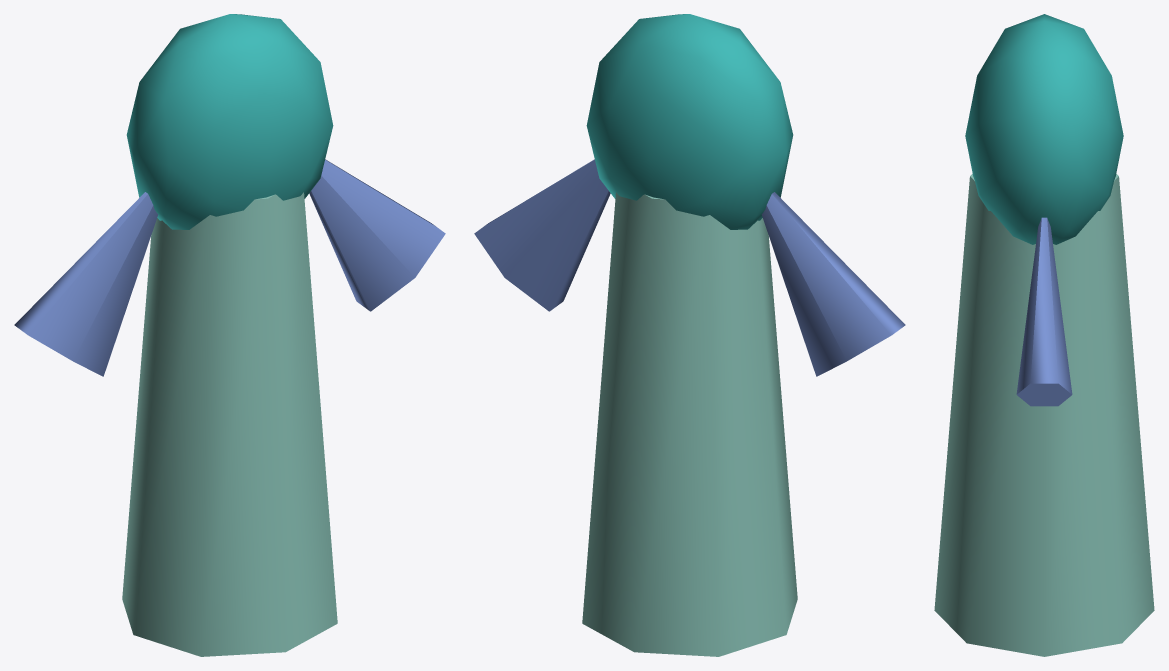
Rendered from path-marker.glb.
3 views of the same model, side by side, from view 1: azimuth 30°, elevation 25°; view 2: azimuth 150°, elevation 25°; view 3: azimuth 270°, elevation 25° (orthographic).
Visible parts, largest first — view 1: totem_body, totem_head, wing_-1, wing_1; view 2: totem_body, totem_head, wing_-1, wing_1; view 3: totem_body, totem_head, wing_1.
Boxes of the visible parts, x1=… form: totem_body: x1=122, y1=192, x2=337, y2=656; totem_head: x1=126, y1=14, x2=333, y2=229; wing_-1: x1=14, y1=192, x2=158, y2=376; wing_1: x1=309, y1=159, x2=445, y2=311; totem_body: x1=582, y1=192, x2=797, y2=656; totem_head: x1=586, y1=14, x2=793, y2=229; wing_-1: x1=761, y1=192, x2=905, y2=376; wing_1: x1=474, y1=159, x2=610, y2=311; totem_body: x1=934, y1=174, x2=1154, y2=656; totem_head: x1=965, y1=14, x2=1123, y2=244; wing_1: x1=1016, y1=217, x2=1072, y2=406.
Size of what is drawn, in the model's own units: 2.68 by 3.66 by 1.24.
